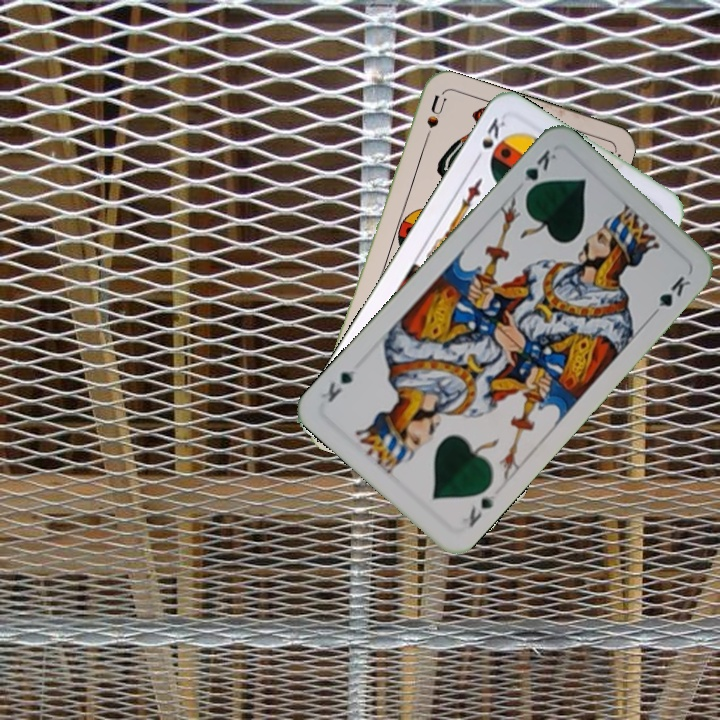GK: (520, 145, 559, 198), (464, 490, 497, 531)
SK: (469, 113, 509, 166)
SU: (418, 92, 448, 151)
